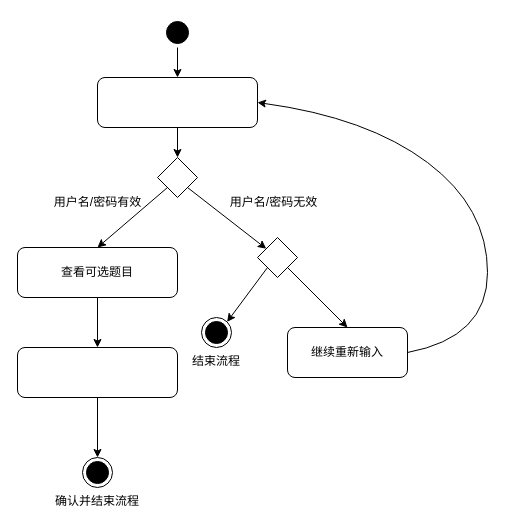
This 505x526 diagram has some shape labels left out. The box of each missing label's shape, as (x1, y1, x2, y2) in pixels:
输入用户名和密码: (96, 76, 258, 128)
选择题目并提交: (16, 346, 178, 398)
